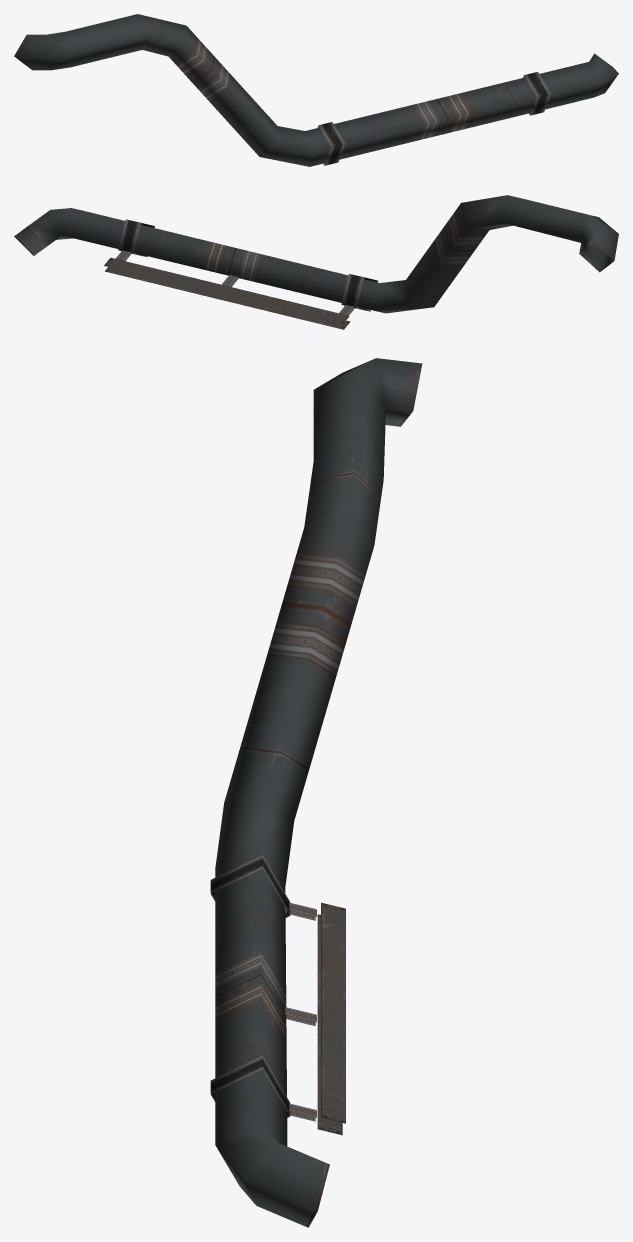
File: Wall3_Pipe4_L2.fbx
The picture shows the model from 3 angles, top to bottom: view 1: azimuth 30°, elevation 25°; view 2: azimuth 150°, elevation 25°; view 3: azimuth 270°, elevation 25°; orthographic projection. The views are drawn at different scales.
Parts seen in each view (by area): view 1: Wall3_Pipe4_L2; view 2: Wall3_Pipe4_L2; view 3: Wall3_Pipe4_L2.
Boxes of the visible parts, x1,y1,x2,y2 form: Wall3_Pipe4_L2: [14, 14, 618, 166]; Wall3_Pipe4_L2: [14, 195, 618, 329]; Wall3_Pipe4_L2: [210, 358, 422, 1227].
Size of the model in its own units: 516 by 150 by 82.12.
